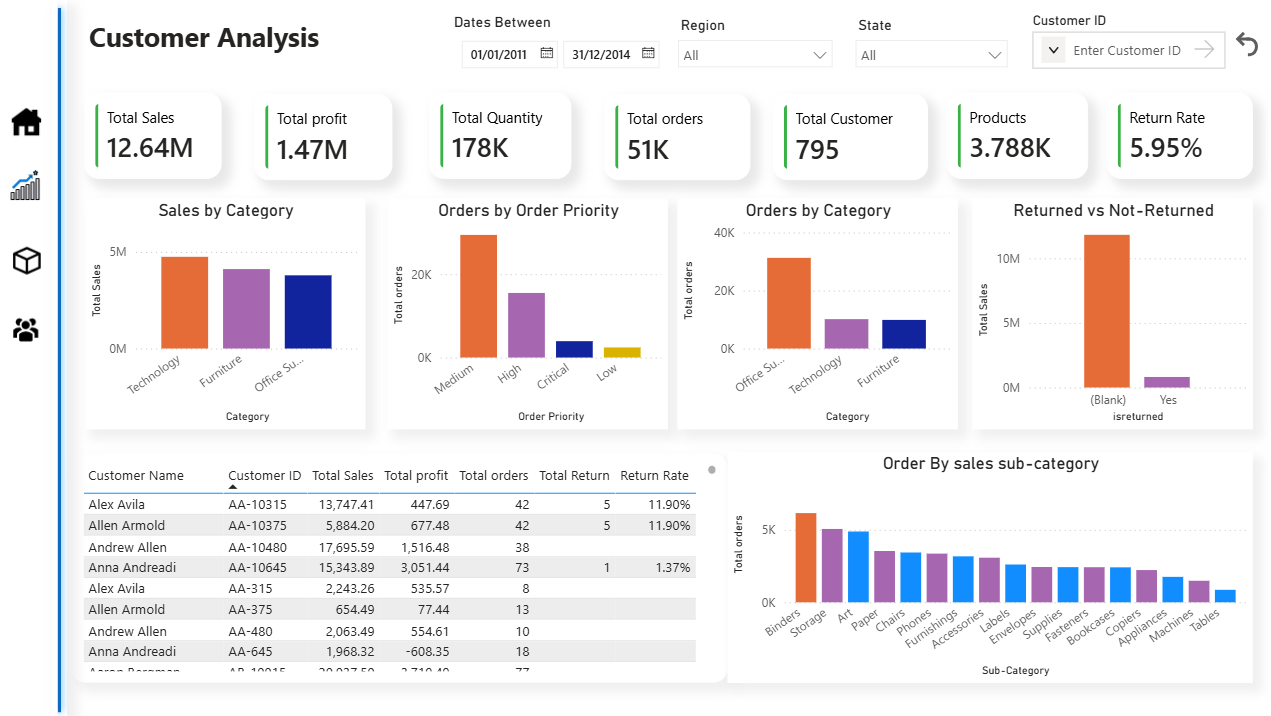

Layout of this report page (visuals, bound fields, positions):
{"tool":"powerbi","page":{"name":"Customer Analysis","canvas":[1280,720],"ordinal":3},"visuals":[{"type":"cardVisual","fields":{"Data":["orders.Total Sales"]},"box":[85,92.5,137.5,86.2],"z":0},{"type":"cardVisual","fields":{"Data":["orders.Total profit"]},"box":[255,93.8,138.8,86.2],"z":1000},{"type":"cardVisual","fields":{"Data":["orders.Total Quantity"]},"box":[430,92.5,142.5,86.2],"z":2000},{"type":"cardVisual","fields":{"Data":["orders.Products"]},"box":[947.5,92.5,141.2,86.2],"z":3000},{"type":"tableEx","fields":{"Values":["customer.Customer Name","orders.Customer ID","orders.Total Sales","orders.Total profit","orders.Total orders","orders.Total Return","customer.Return Rate"]},"box":[72.5,453.8,656.2,228.8],"z":4000},{"type":"columnChart","title":"Orders by Order Priority","fields":{"Category":["orders.Order Priority"],"Y":["orders.Total orders"]},"box":[388.8,198.8,280,230],"z":5000},{"type":"textbox","box":[85,13.8,251.2,58.8],"z":6000},{"type":"slicer","title":"Dates Between","fields":{"Values":["date.Date"]},"box":[450,13.5,218.9,59.9],"z":7000},{"type":"slicer","fields":{"Values":["customer.State"]},"box":[846.2,11.2,172.5,61.2],"z":8000},{"type":"cardVisual","fields":{"Data":["orders.Total orders"]},"box":[605,93.8,146.2,86.2],"z":9000},{"type":"cardVisual","fields":{"Data":["customer.Return Rate"]},"box":[1107.5,92.5,146.2,86.2],"z":10000},{"type":"slicer","fields":{"Values":["customer.Region"]},"box":[668.8,11.2,175,61.2],"z":11000},{"type":"cardVisual","fields":{"Data":["orders.Total Customer"]},"box":[773.8,93.8,155,86.2],"z":12000},{"type":"textSlicer","fields":{"Values":["customer.Customer ID"]},"box":[1028.8,12.5,202.5,61.2],"z":13000},{"type":"columnChart","title":"Orders by Category","fields":{"Category":["orders.Category"],"Y":["orders.Total orders"]},"box":[678.8,198.8,280,230],"z":14000},{"type":"columnChart","title":"Returned vs Not-Returned","fields":{"Category":["orders.isreturned"],"Y":["orders.Total Sales"]},"box":[973.8,198.8,280,230],"z":15000},{"type":"lineStackedColumnComboChart","title":"Order By sales sub-category","fields":{"Category":["orders.Sub-Category"],"Y":["orders.Total orders"]},"box":[728.8,452.5,525,230],"z":16000},{"type":"columnChart","title":"Sales by Category","fields":{"Category":["orders.Category"],"Y":["orders.Total Sales"]},"box":[86.2,198.8,280,230],"z":17000},{"type":"shape","box":[51.9,0,15.7,720.2],"z":18000},{"type":"actionButton","box":[6,161.7,39.8,48.3],"z":19000},{"type":"actionButton","box":[8.4,95.3,37.4,54.3],"z":20000},{"type":"actionButton","box":[6,308.8,51.9,41],"z":21000},{"type":"actionButton","box":[4.8,234,45.8,53.1],"z":22000},{"type":"actionButton","box":[1231.2,26.2,33.8,35],"z":23000}]}

Visuals, with their boxes on the page's 1280x720 design canvas (x1, y1, x2, y2). These are canvas units, not pixel positions in the 1271x716 screenshot, which may show the page scaled, cropped or inside an application window:
cardVisual - orders.Total Sales: [85, 92, 222, 179]
cardVisual - orders.Total profit: [255, 94, 394, 180]
cardVisual - orders.Total Quantity: [430, 92, 572, 179]
cardVisual - orders.Products: [948, 92, 1089, 179]
tableEx - customer.Customer Name x orders.Customer ID: [72, 454, 729, 683]
"Orders by Order Priority" columnChart: [389, 199, 669, 429]
textbox: [85, 14, 336, 73]
"Dates Between" slicer: [450, 14, 669, 73]
slicer - customer.State: [846, 11, 1019, 72]
cardVisual - orders.Total orders: [605, 94, 751, 180]
cardVisual - customer.Return Rate: [1108, 92, 1254, 179]
slicer - customer.Region: [669, 11, 844, 72]
cardVisual - orders.Total Customer: [774, 94, 929, 180]
textSlicer - customer.Customer ID: [1029, 12, 1231, 74]
"Orders by Category" columnChart: [679, 199, 959, 429]
"Returned vs Not-Returned" columnChart: [974, 199, 1254, 429]
"Order By sales sub-category" lineStackedColumnComboChart: [729, 452, 1254, 682]
"Sales by Category" columnChart: [86, 199, 366, 429]
shape: [52, 0, 68, 720]
actionButton: [6, 162, 46, 210]
actionButton: [8, 95, 46, 150]
actionButton: [6, 309, 58, 350]
actionButton: [5, 234, 51, 287]
actionButton: [1231, 26, 1265, 61]
